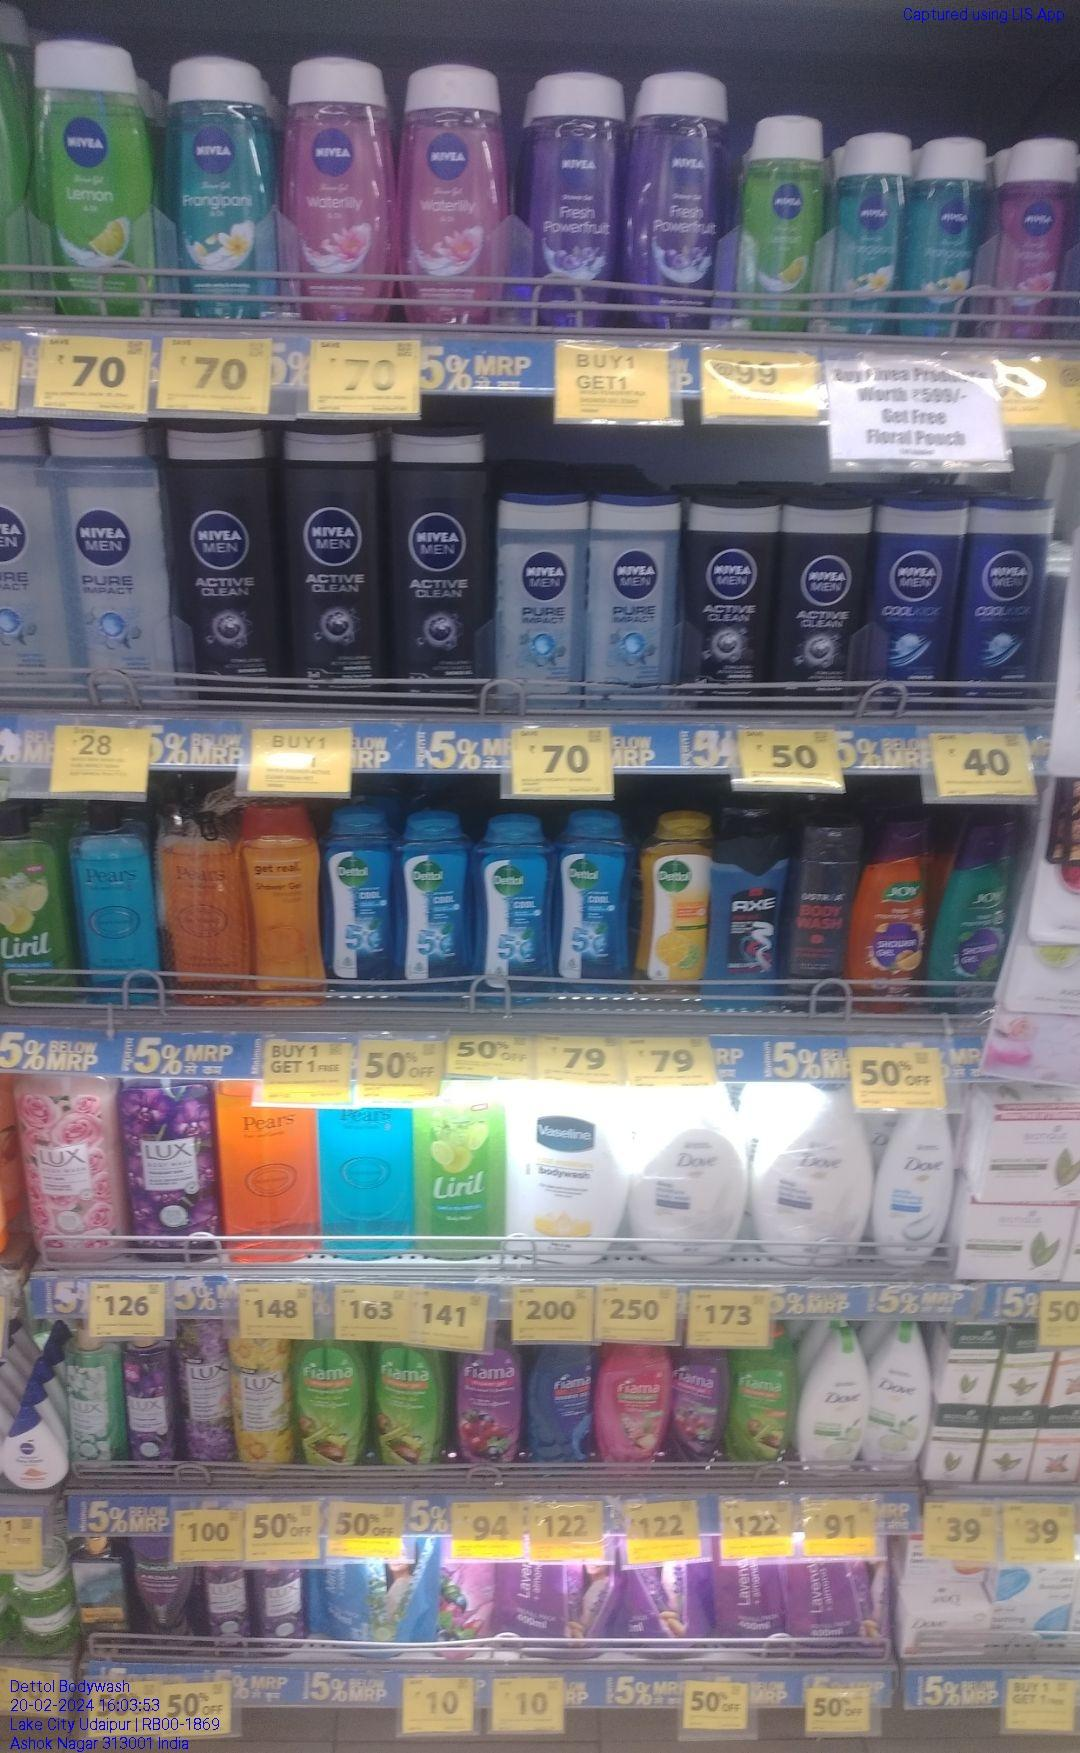Dettol_Bodywash_Cool: (476, 815, 554, 1003), (557, 811, 633, 1004), (402, 811, 471, 1000), (333, 805, 397, 997)
Dettol_Bodywash_Refresh: (641, 811, 707, 998)
Dove_Gentle_Exfoliating_Body_Wash_250ML: (874, 1107, 955, 1271)
Dove_Refreshing_Body_Wash_250ML: (797, 1319, 866, 1478), (867, 1320, 934, 1475)
Fiama_Shower_Gel_Lemongrass_and_Jojoba_250ML: (732, 1351, 792, 1463)
Fiama_Shower_Gel_Patchouli_and_Macadamia_250ML: (596, 1341, 671, 1473)
Get_Real_Shower_Gel_Moisturising_Glycerin_300ML: (244, 798, 325, 1003)
Joy_Shower_Gel_Mandarin_and_Lemongrass_250ML: (860, 815, 929, 1010)
Joy_Shower_Gel_Mint_and_Eucalyptus_250ML: (934, 814, 1016, 1013)
Liril_Lime_and_Tea_Tree_Oil_Body_Wash_250ML: (0, 803, 71, 1005)
Lux_Black_Orchid_Scent_and_Juniper_Oil_Body_Wash_245ML: (131, 1337, 171, 1483), (255, 1564, 305, 1664), (201, 1560, 249, 1665)
Lux_Body_Wash_Skin_Detox_Freesia_Scent_and_Alove_Vera_245ML: (68, 1330, 129, 1478)
Nivea_Shower_Gel_Frangipani_and_Oil_250ML: (165, 58, 282, 319), (912, 138, 987, 342), (841, 131, 907, 337)
Nivea_Shower_Gel_Fresh_Powerfruit_250ML: (634, 70, 733, 333), (528, 66, 624, 326)
Nivea_Shower_Gel_Lemon_and_Oil_250ML: (31, 41, 155, 314), (746, 105, 826, 331)
Nivea_Shower_Gel_Waterlily_and_Oil_250ML: (400, 55, 509, 322), (285, 54, 390, 321), (1002, 140, 1074, 342)
Palmolive_Aroma_Relax_250ML: (136, 1540, 194, 1653)
Pears_Pure_Glycerin_and_Mint_Extracts_Body_Wash_250ML: (78, 803, 161, 998)
